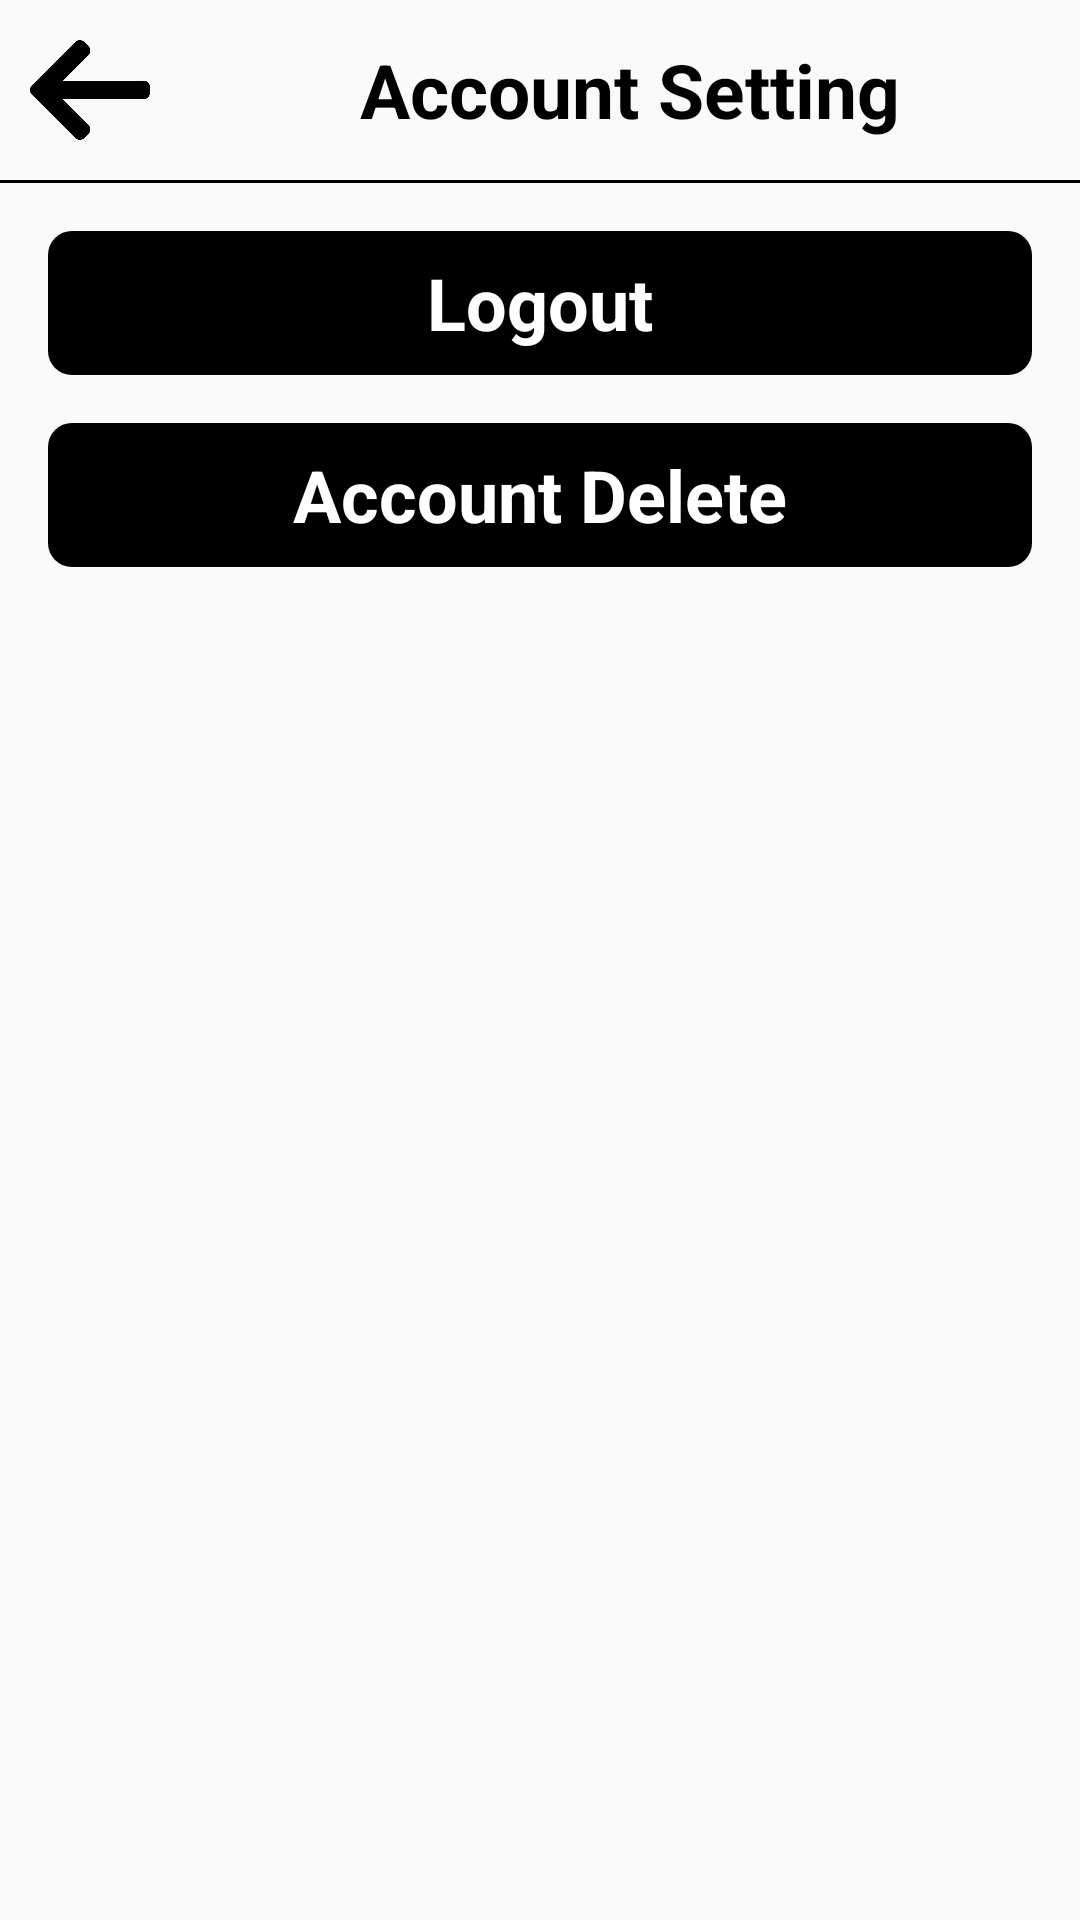

Icon click points for this 1080 × 1920 phone screenshot, format (x=x, y=y):
back: (x=90, y=90)
